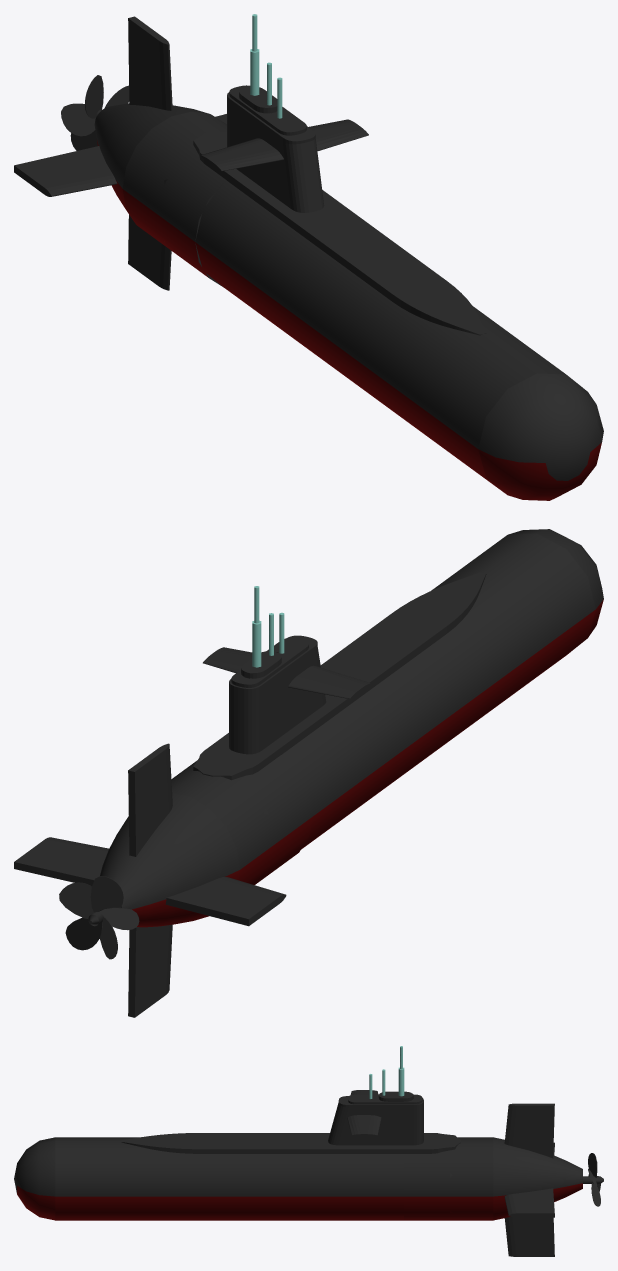
3 views of the same model, one above another, from view 1: azimuth 30°, elevation 25°; view 2: azimuth 150°, elevation 25°; view 3: azimuth 270°, elevation 25° (orthographic). The views are drawn at different scales.
Parts seen in each view (by area): view 1: OilTank001, Loft001; view 2: OilTank001, Loft001; view 3: OilTank001, Loft001.
Boxes of the visible parts, box(x1,y1,x2,y2) form: OilTank001: box(14, 14, 603, 500); Loft001: box(61, 75, 129, 150); OilTank001: box(14, 529, 603, 1017); Loft001: box(59, 876, 139, 959); OilTank001: box(14, 1046, 582, 1256); Loft001: box(583, 1153, 603, 1206).
Size of the model in its own units: 7112 by 9812 by 25115.
